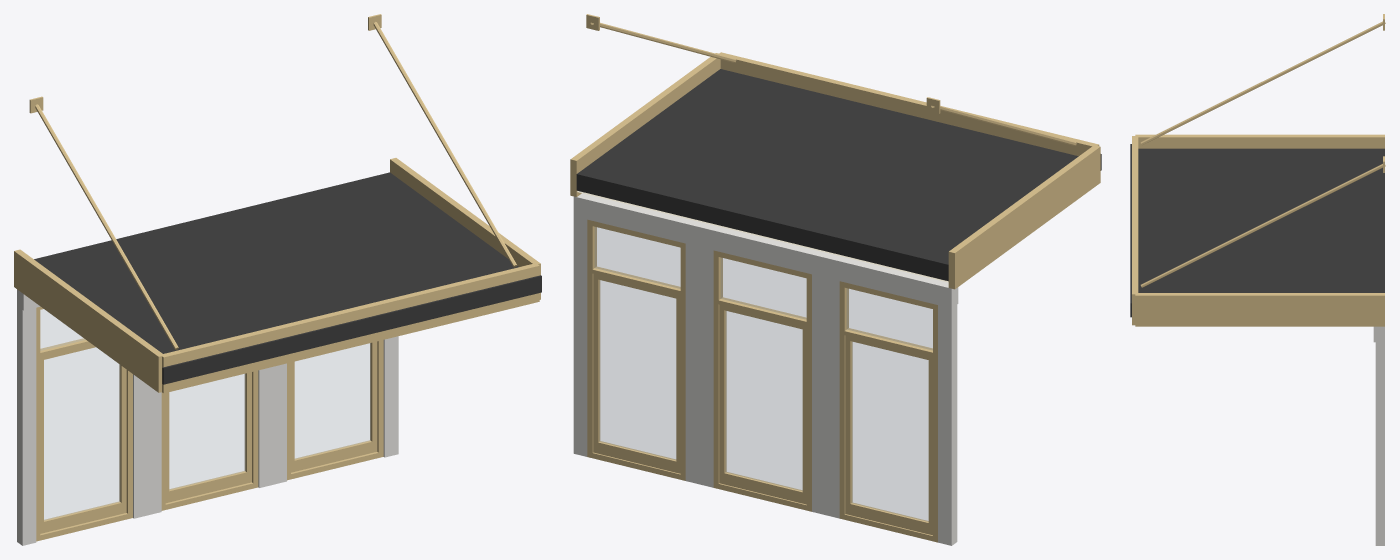
The model's file is door_hotel_marquee_6.0_lod1.glb.
3 views of the same model, side by side, from view 1: azimuth 30°, elevation 25°; view 2: azimuth 150°, elevation 25°; view 3: azimuth 270°, elevation 25° (orthographic). The views are drawn at different scales.
Visible parts, largest first — view 1: door_hotel_marquee; view 2: door_hotel_marquee; view 3: door_hotel_marquee.
Boxes of the visible parts, x1,y1,x2,y2 form: door_hotel_marquee: [14, 14, 541, 545]; door_hotel_marquee: [570, 14, 1101, 545]; door_hotel_marquee: [1130, 14, 1385, 545].
Bounding box in the file's own units: 6.1 × 6.7 × 4.09.
